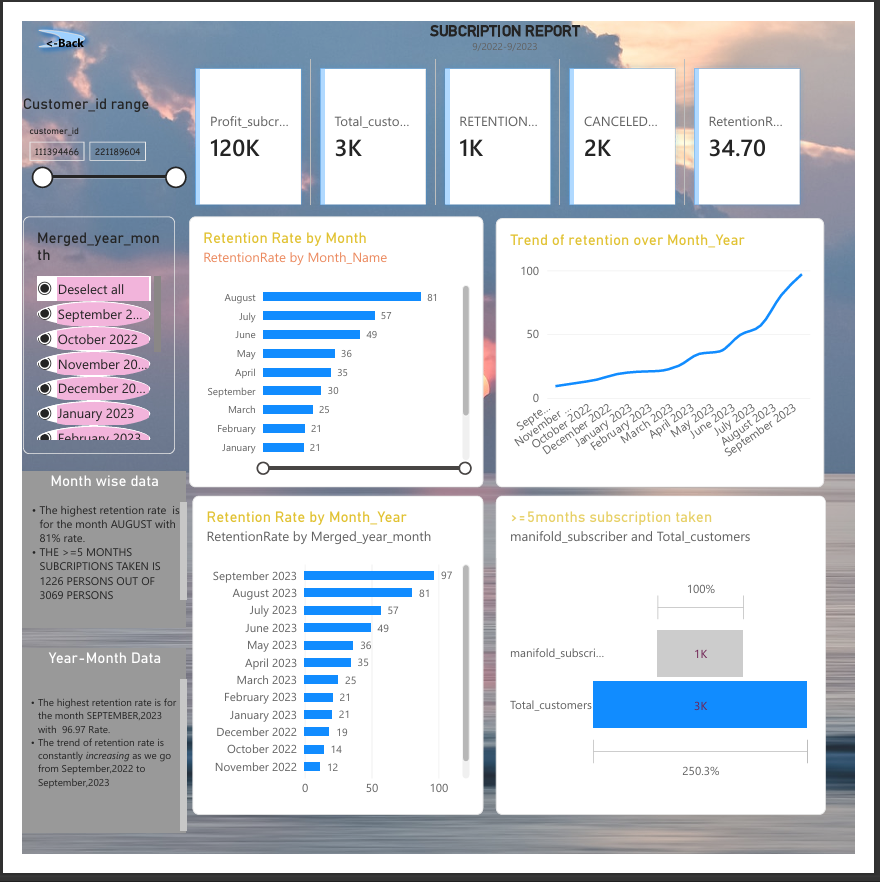

Layout of this report page (visuals, bound fields, positions):
{"tool":"powerbi","page":{"name":"KPIs","canvas":[1000,1000],"ordinal":1},"visuals":[{"type":"barChart","title":"Retention Rate by Month","fields":{"Category":["Subscription Cohort Analysis Data.Month_Name_created"],"Y":["Subscription Cohort Analysis Data.RetentionRate"]},"box":[200,234.3,354.3,325.7],"z":0},{"type":"barChart","title":"Retention Rate by Month_Year","fields":{"Category":["Subscription Cohort Analysis Data.Merged_year_month"],"Y":["Subscription Cohort Analysis Data.RetentionRate"]},"box":[204.3,570,350,384.3],"z":1000},{"type":"slicer","title":"Customer_id range","fields":{"Values":["Subscription Cohort Analysis Data.customer_id"]},"box":[0,88.3,200,145],"z":2000},{"type":"cardVisual","title":"SUBCRIPTION REPORT","fields":{"Data":["Subscription Cohort Analysis Data.Total subcription_profit","Subscription Cohort Analysis Data.Total_customers","Subscription Cohort Analysis Data.CANCELLED_COUNT","Subscription Cohort Analysis Data.CANCELED_COUNT","Subscription Cohort Analysis Data.Retention_rate"]},"box":[196.7,0,766.7,233.3],"z":3000},{"type":"lineChart","title":"Trend of retention over Month_Year","fields":{"Category":["Subscription Cohort Analysis Data.Merged_year_month"],"Y":["Subscription Cohort Analysis Data.RetentionRate"]},"box":[568.6,235.7,395.7,324.3],"z":4000},{"type":"funnel","title":">=5months subscription taken","fields":{"Y":["Subscription Cohort Analysis Data.manifold_subscriber","Subscription Cohort Analysis Data.Total_customers"]},"box":[568.6,570,397.1,384.3],"z":5000},{"type":"listSlicer","fields":{"Values":["Subscription Cohort Analysis Data.Merged_year_month"]},"box":[0,234.3,182.9,285.7],"z":6000},{"type":"slicer","fields":{"Values":["Subscription Cohort Analysis Data.Month_Name_created"]},"box":[0,541.7,155,56.7],"z":7000},{"type":"textbox","title":"Month wise data","box":[0,541.4,197.1,187.1],"z":7001},{"type":"textbox","title":"Year-Month Data","box":[0,754.3,197.1,221.4],"z":7002},{"type":"actionButton","title":"<-Back","box":[0,0,100,40],"z":7003}]}

Visuals, with their boxes in screenshot pixels (x1, y1, x2, y2), scaled from the page's 1000x1000 canvas onto the 880x882 screenshot:
"Retention Rate by Month" barChart: [176,207,488,494]
"Retention Rate by Month_Year" barChart: [180,503,488,842]
"Customer_id range" slicer: [0,78,176,206]
"SUBCRIPTION REPORT" cardVisual: [173,0,848,206]
"Trend of retention over Month_Year" lineChart: [500,208,849,494]
">=5months subscription taken" funnel: [500,503,850,842]
listSlicer - Subscription Cohort Analysis Data.Merged_year_month: [0,207,161,459]
slicer - Subscription Cohort Analysis Data.Month_Name_created: [0,478,136,528]
"Month wise data" textbox: [0,478,173,643]
"Year-Month Data" textbox: [0,665,173,861]
"<-Back" actionButton: [0,0,88,35]
